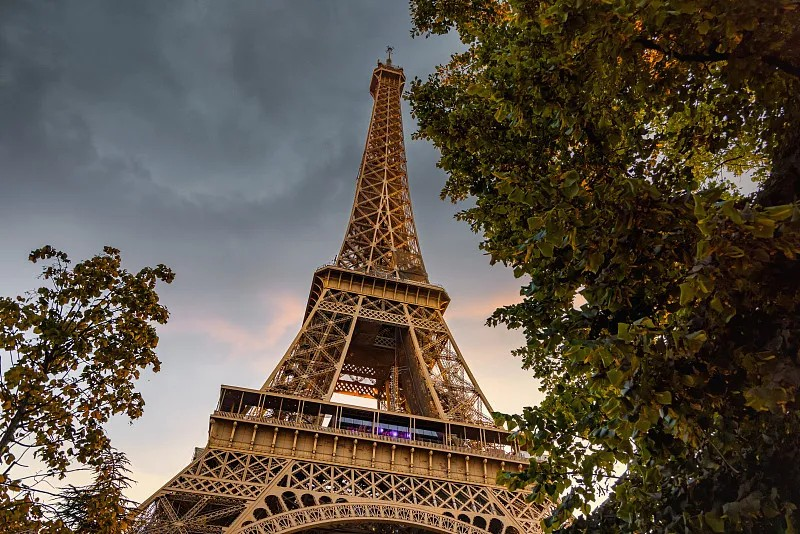Eiffel: (117, 45, 571, 534)
